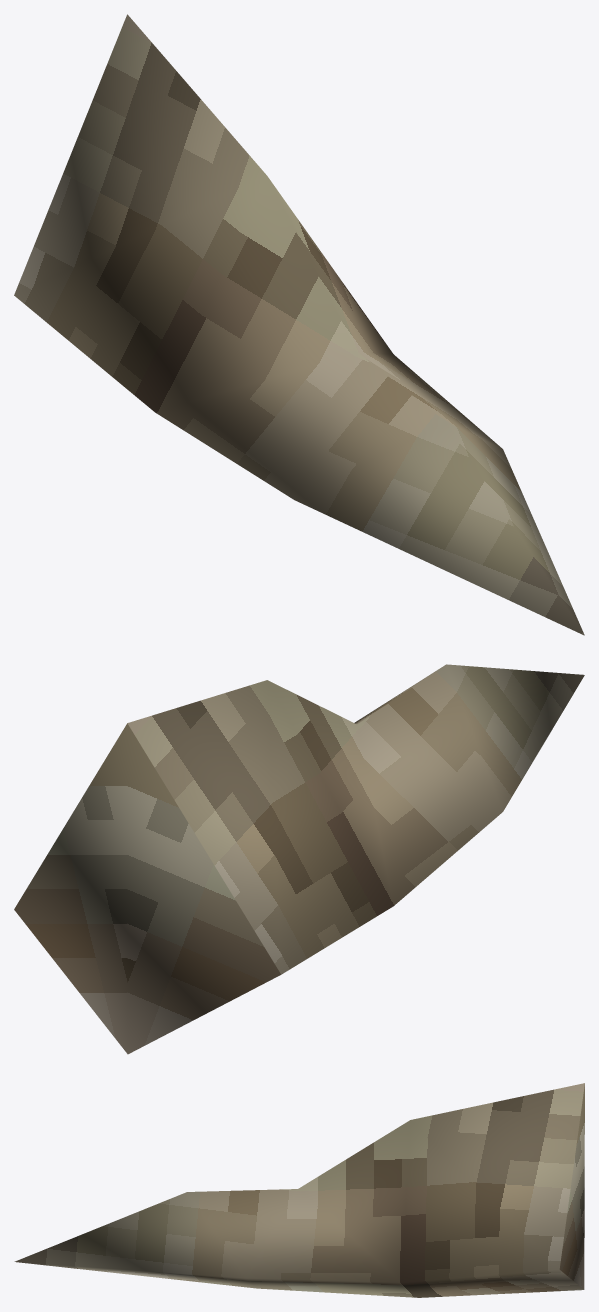
File: NeckTailGrilled.fbx
3 views of the same model, one above another, from view 1: azimuth 30°, elevation 25°; view 2: azimuth 150°, elevation 25°; view 3: azimuth 270°, elevation 25° (orthographic). The views are drawn at different scales.
Visible parts, largest first — view 1: meat; view 2: meat; view 3: meat.
Boxes of the visible parts, <box> form: meat: <box>14,14,584,635</box>; meat: <box>14,664,584,1054</box>; meat: <box>14,1083,584,1297</box>.
Size of the model in its own units: 0.2192 by 0.2699 by 0.65.
Materials: 1 (1 with a texture image).
